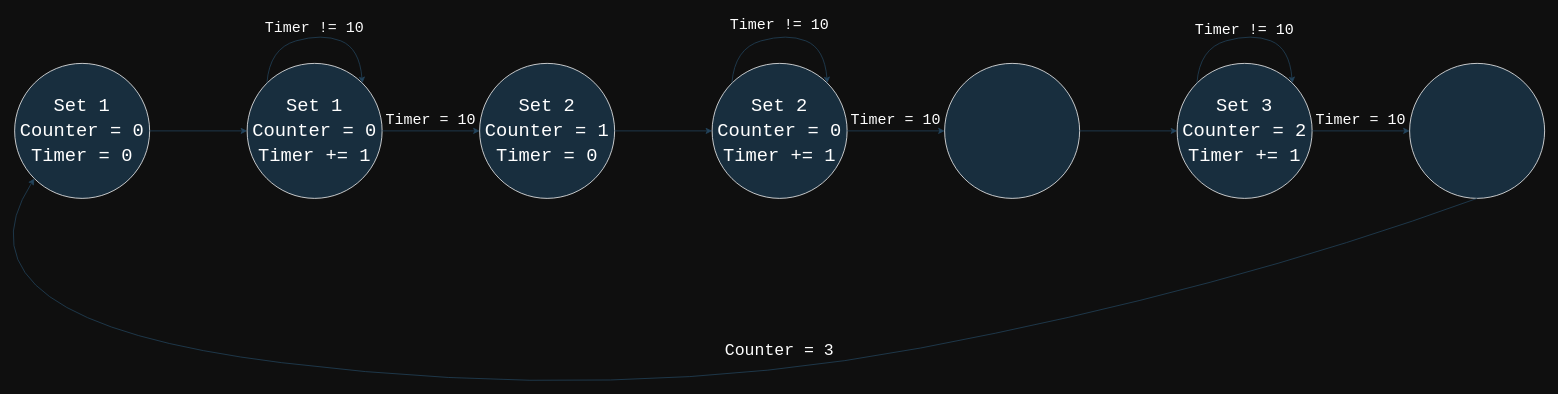
This 1558x394 diagram has some shape labels left out. Here are the shapes that lost their labels. From the top down, the centre of each, then its label:
At (x=1012, y=130): "Set 3 Counter = 2 Timer = 0".
At (x=1477, y=130): "Set 1 Counter = 3 Timer = 0".
